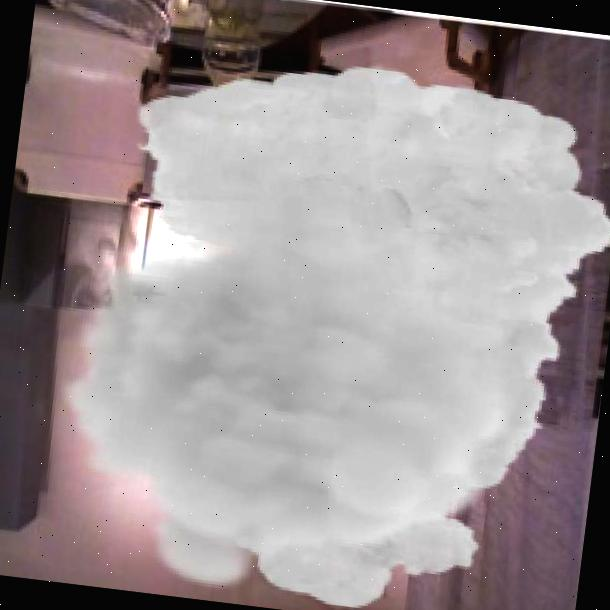smoke: (38, 32, 610, 610)
